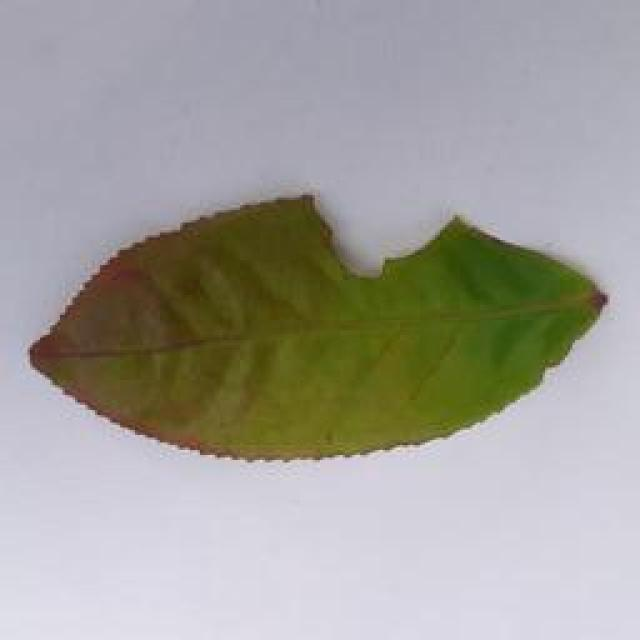Red Leaf Spot: (0, 186, 620, 466)
